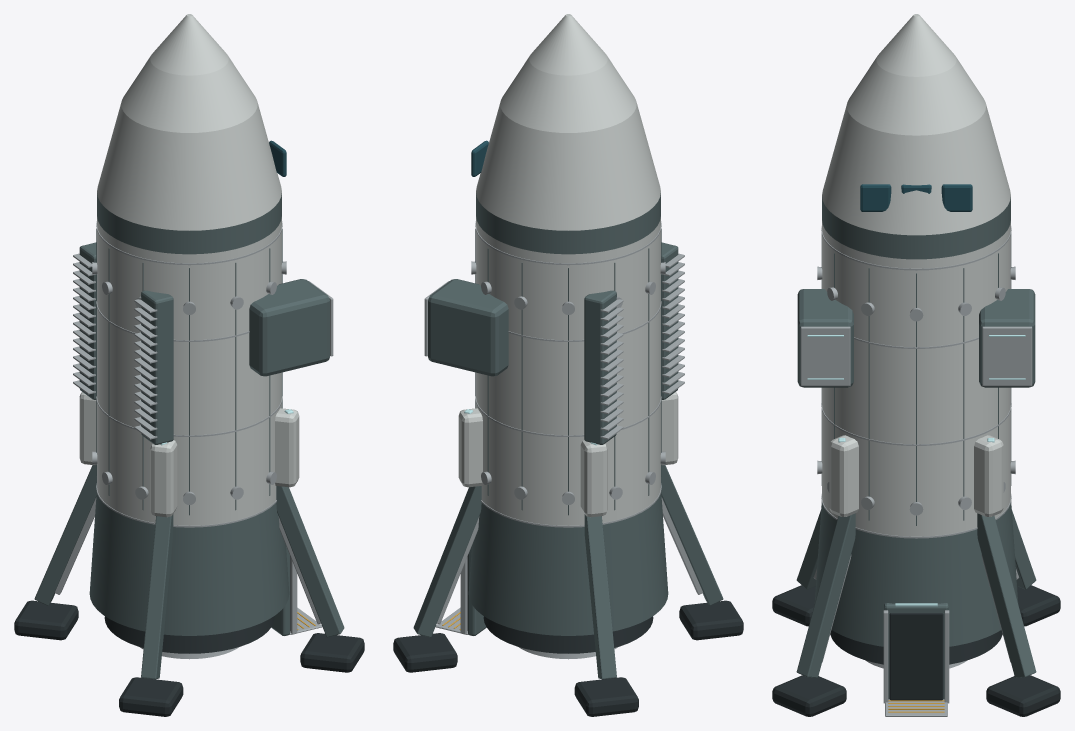
File: SM_Shuttle.fbx
3 renders of one model, left to right at view 1: azimuth 30°, elevation 25°; view 2: azimuth 150°, elevation 25°; view 3: azimuth 270°, elevation 25°, orthographic. The views are drawn at different scales.
Visible parts, largest first — view 1: SM_Shuttle; view 2: SM_Shuttle; view 3: SM_Shuttle.
Part boxes in pixels (x1,y1,x2,y2): SM_Shuttle: (14, 14, 364, 716); SM_Shuttle: (393, 14, 743, 716); SM_Shuttle: (772, 14, 1060, 716).
Size of the model in its own units: 849 by 849 by 2088.
